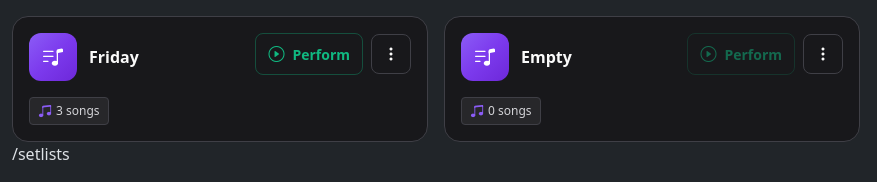
Test case: SetlistList cards (spec §3) › Perform opens performance mode and does not open the detail
Click the button "Perform" next to "Friday" at (309, 54), box [255,33,363,75]
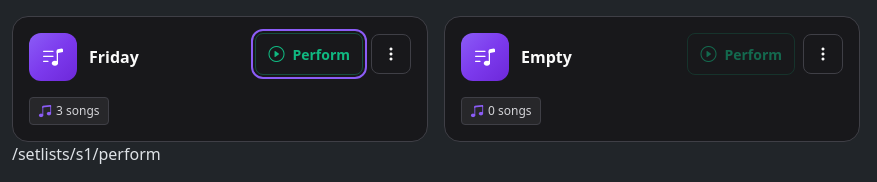
Expected: the text with test id "location" reads "/setlists/s1/perform", [12,143,161,165]
